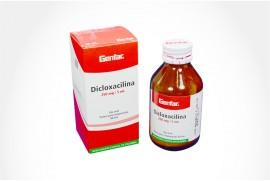Genfar: (86, 48, 137, 155)
